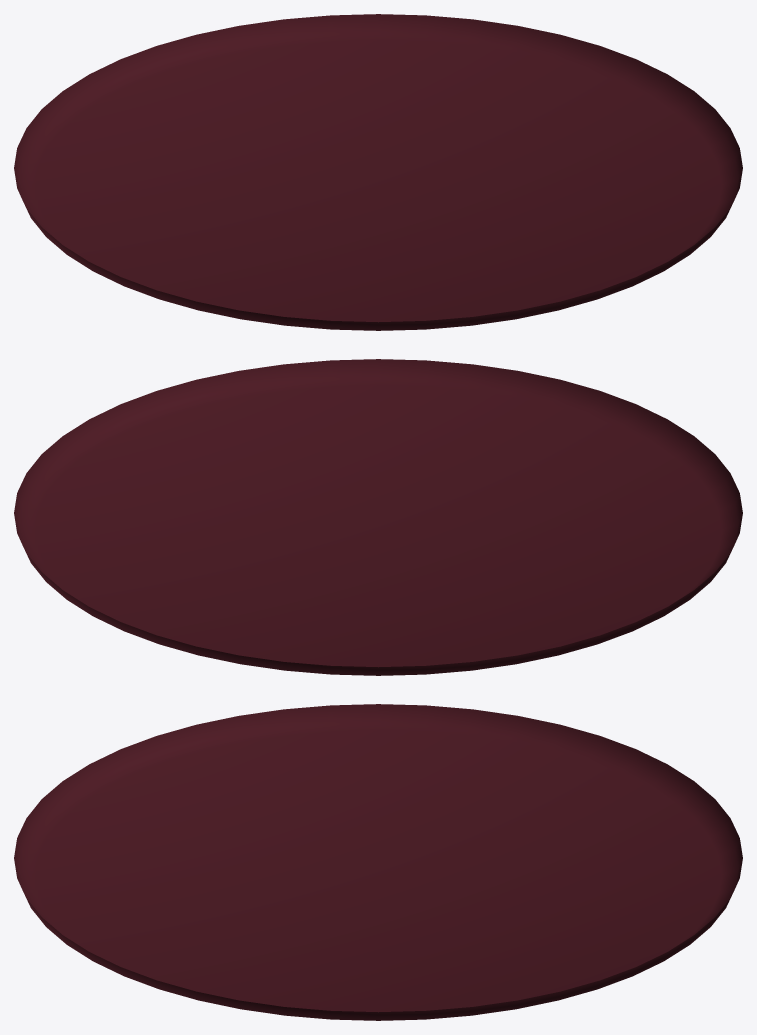
File: StudyWine.fbx
3 views of the same model, one above another, from view 1: azimuth 30°, elevation 25°; view 2: azimuth 150°, elevation 25°; view 3: azimuth 270°, elevation 25° (orthographic).
Parts seen in each view (by area): view 1: StudyWine; view 2: StudyWine; view 3: StudyWine.
Part boxes in pixels (x1,y1,x2,y2): StudyWine: (14,14,742,330); StudyWine: (14,359,742,675); StudyWine: (14,704,742,1020).
Size of the model in its own units: 61.6 by 1.6 by 61.6.
